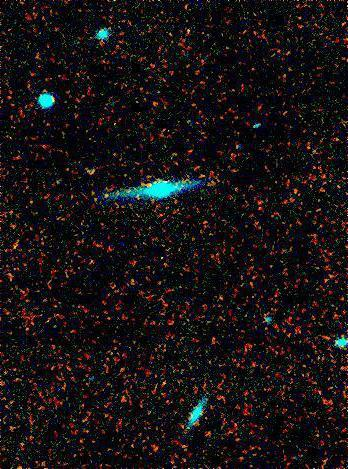star: (92, 181, 122, 211)
